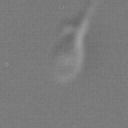abnormal: (56, 1, 107, 38)
